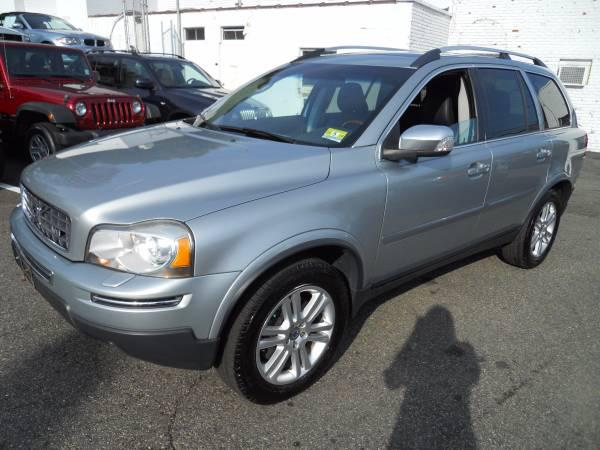volvo: (2, 37, 591, 411)
